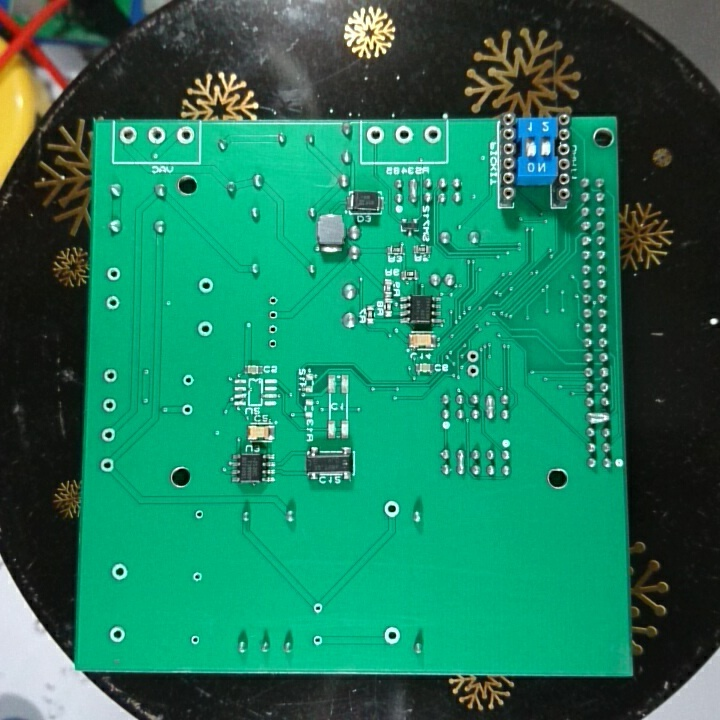F: (380, 623, 406, 648), (364, 122, 387, 148), (393, 122, 416, 147), (174, 123, 197, 147), (421, 123, 444, 146), (381, 497, 403, 521), (195, 273, 218, 295), (107, 623, 129, 645), (118, 124, 139, 146), (110, 561, 131, 583), (147, 123, 167, 146), (195, 317, 216, 338), (104, 264, 124, 286), (310, 627, 327, 649), (97, 453, 116, 472), (104, 292, 122, 312), (101, 395, 119, 415), (99, 426, 119, 443), (179, 402, 197, 420), (101, 367, 119, 384), (264, 320, 281, 338), (464, 364, 484, 379), (465, 347, 483, 363), (180, 371, 197, 387), (266, 306, 283, 322), (266, 335, 281, 353), (190, 568, 204, 586), (310, 600, 325, 616), (265, 293, 281, 307), (193, 505, 206, 522), (187, 634, 204, 646)
P: (404, 175, 422, 206), (584, 409, 615, 426), (453, 447, 469, 478), (483, 392, 496, 420)
